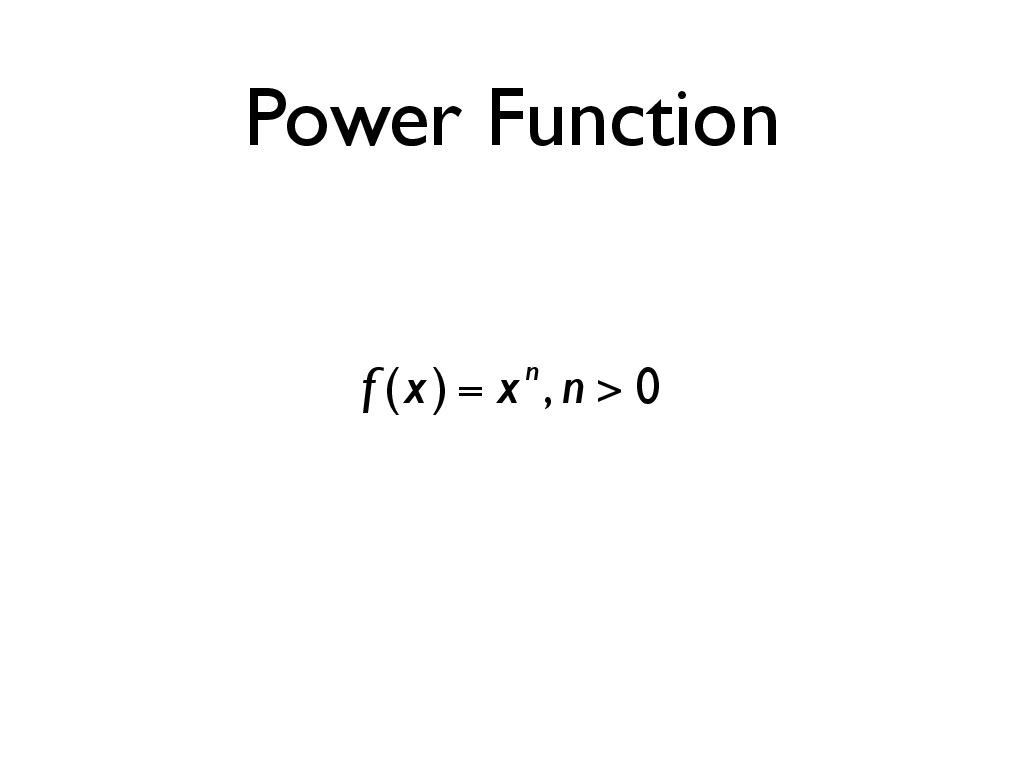subtitle: (349, 333, 764, 439)
title: (234, 63, 816, 185)
